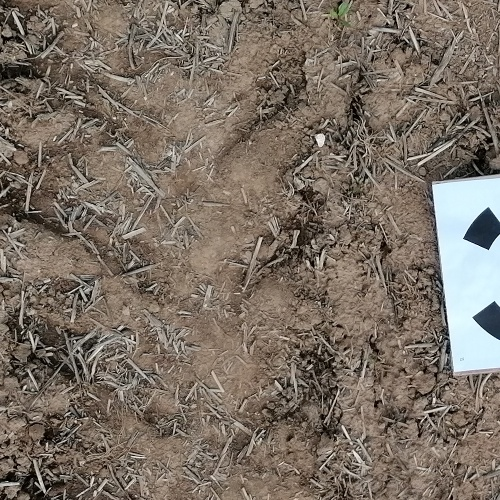beet: (331, 0, 351, 27)
